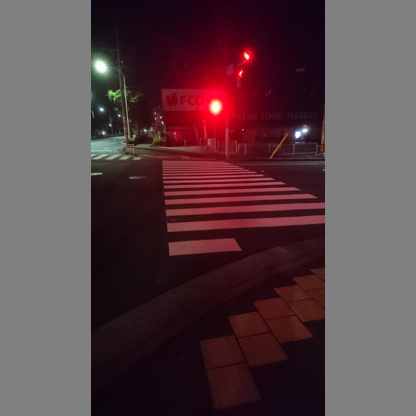brailleblock: (197, 265, 324, 410)
crosswalk: (156, 156, 322, 265)
